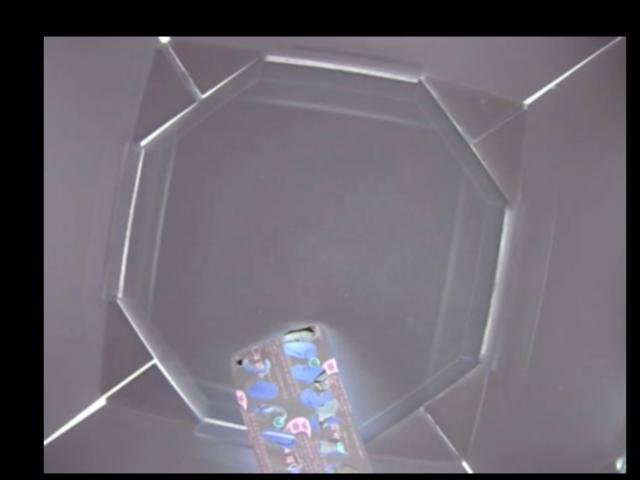Medicine: (230, 323, 369, 473)
